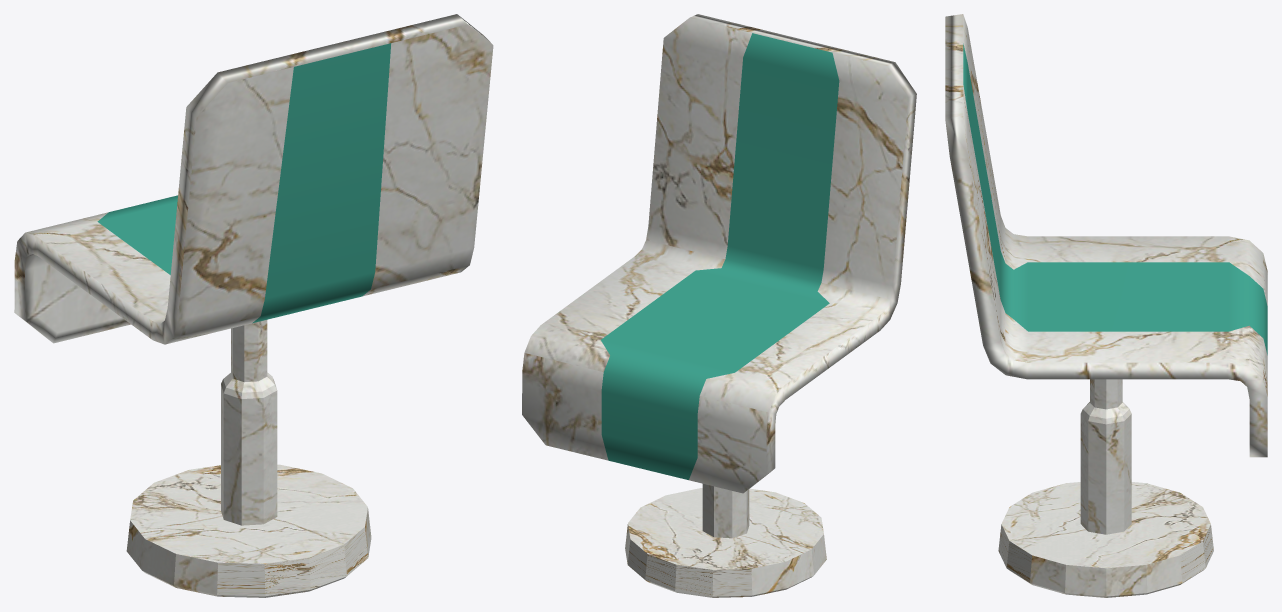
Rendered from FUR0310013.fbx.
3 renders of one model, left to right at view 1: azimuth 30°, elevation 25°; view 2: azimuth 150°, elevation 25°; view 3: azimuth 270°, elevation 25°, orthographic. The views are drawn at different scales.
Parts seen in each view (by area): view 1: smFUR0310013; view 2: smFUR0310013; view 3: smFUR0310013.
Boxes of the visible parts, x1,y1,x2,y2 form: smFUR0310013: (14,14,493,597); smFUR0310013: (522,14,916,597); smFUR0310013: (945,14,1267,597).
Bounding box in the file's own units: 68.71 × 124 × 74.07.
Materials: 1 (1 with a texture image).
